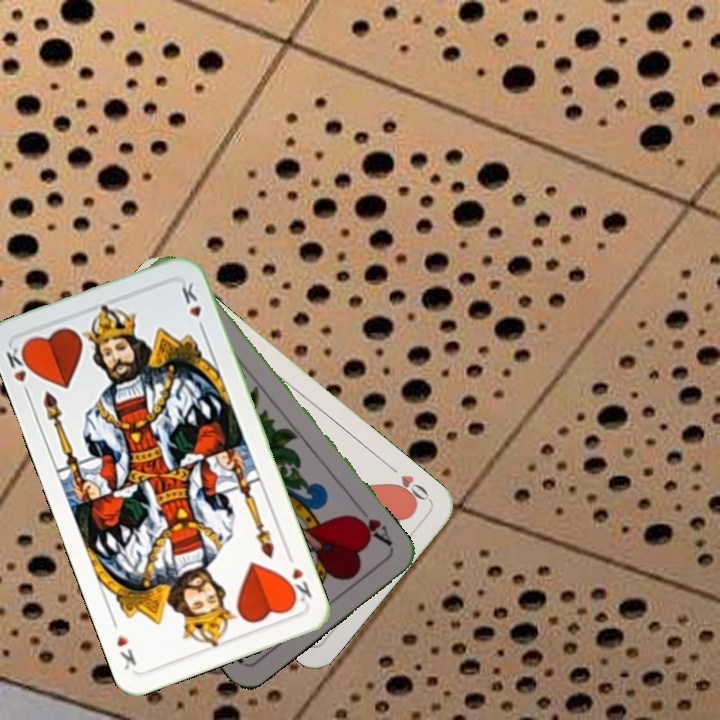HA: (348, 501, 396, 550)
HK: (2, 340, 37, 401), (282, 563, 315, 607)
HO: (383, 460, 433, 508)
